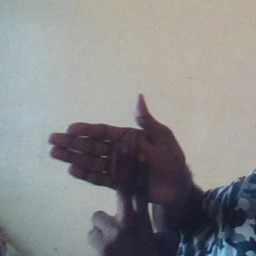N: (53, 88, 188, 256)
